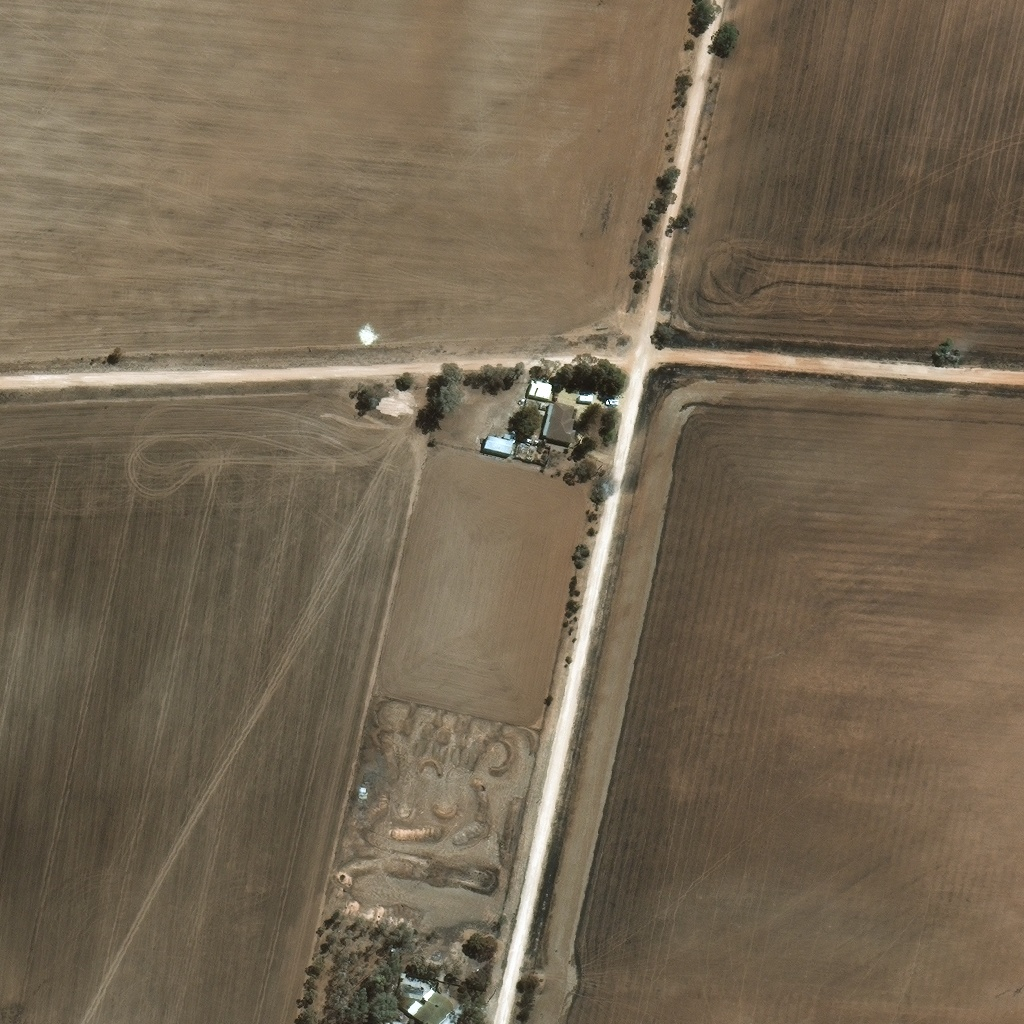0 no-damage: (543, 402, 578, 444), (413, 993, 454, 1023), (484, 436, 514, 455), (530, 381, 553, 398), (406, 1001, 423, 1017), (423, 989, 436, 1002)
